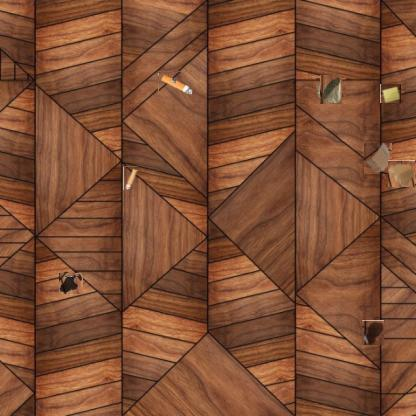dirty: (364, 144, 392, 176), (158, 71, 192, 95), (388, 160, 415, 188), (318, 76, 344, 102), (380, 84, 401, 104), (123, 166, 138, 190)
liquid: (60, 271, 83, 295), (362, 320, 384, 345)
